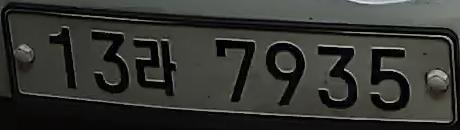1: (42, 22, 86, 92)
3: (312, 43, 363, 111), (87, 26, 133, 96)
5: (364, 44, 416, 116)
7: (210, 34, 262, 106)
9: (260, 39, 312, 109)
라: (131, 33, 181, 99)
